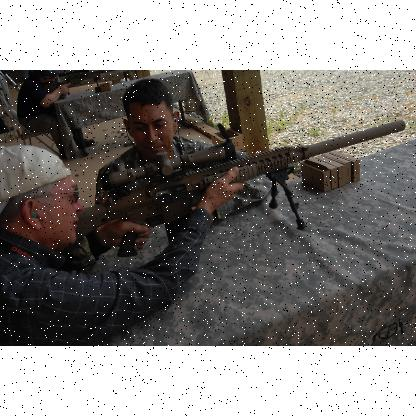gun: (76, 123, 404, 239)
